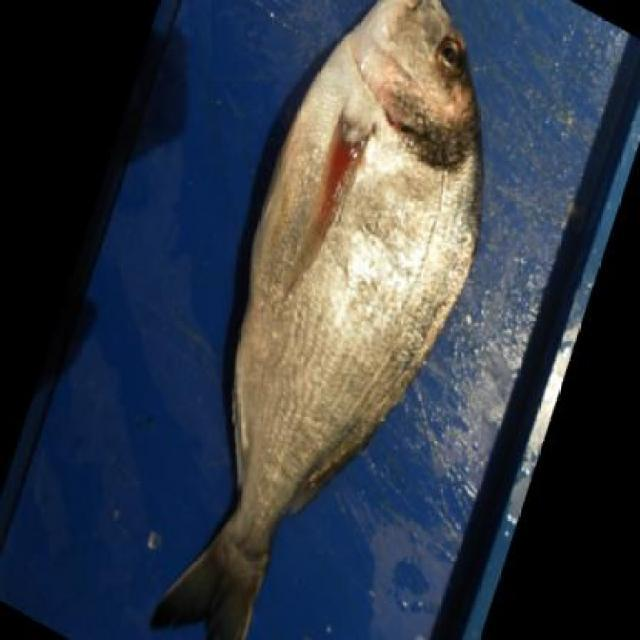Healthy Fish: (150, 0, 493, 640)
